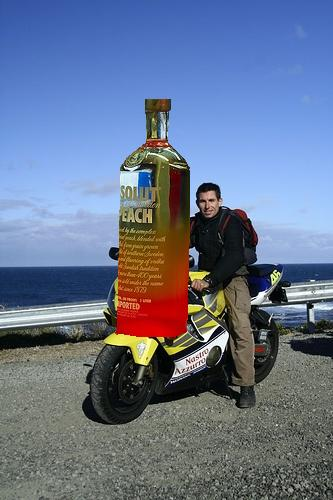tampered: (116, 100, 190, 337)
